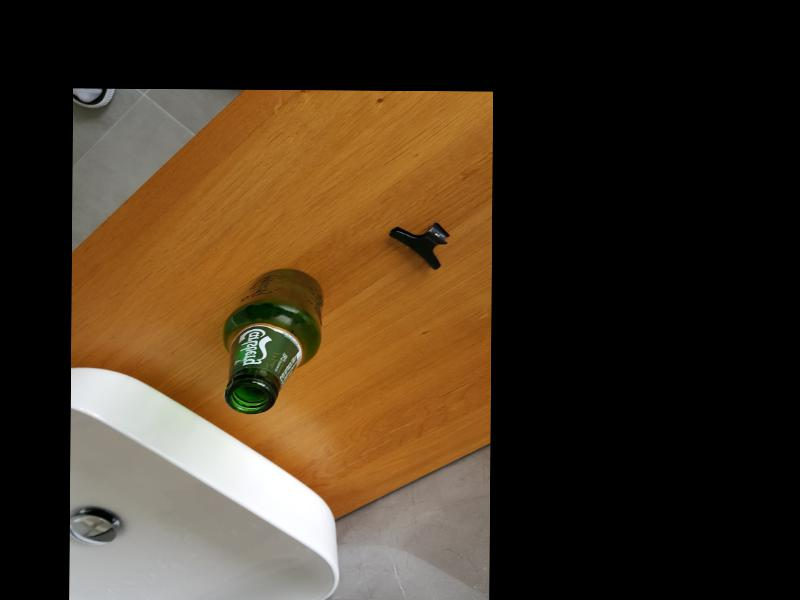Beer: (223, 266, 321, 413)
